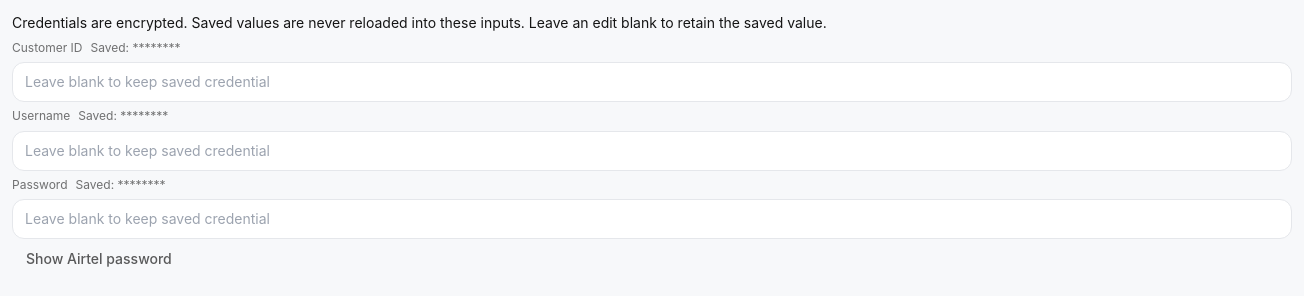
keeps saved values write-only, accepts three new values, and reveals only the typed password
expect the field labelled "Customer ID" is empty: met, box [12,62,1292,102]
expect the field labelled "Username" is empty: met, box [12,131,1292,171]
Type "typed-new-password" into the password field labelled "Password" at (652, 219), box [12,200,1292,239]
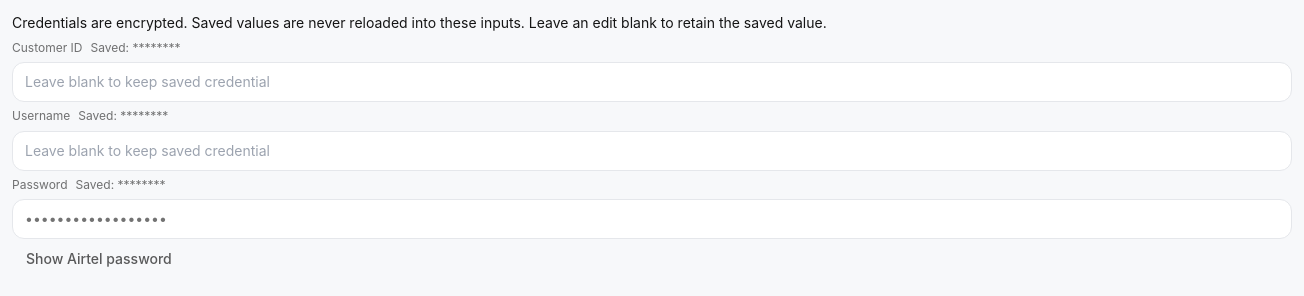
Click the button "Show Airtel password" at (99, 259), box [12,239,186,279]
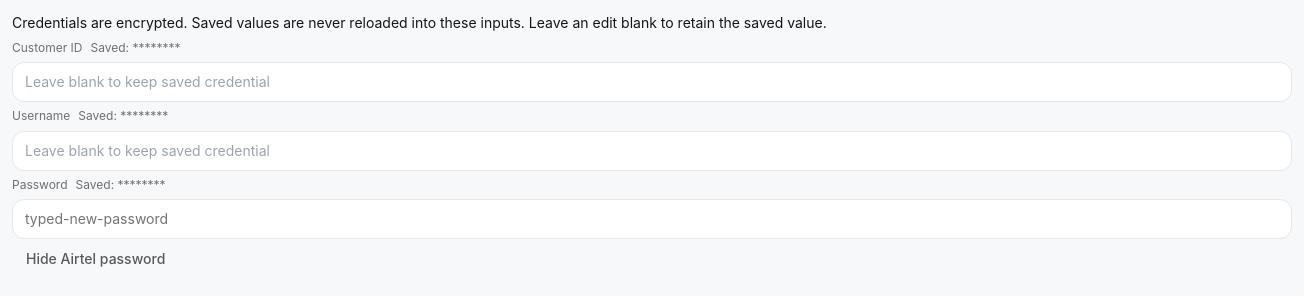
expect the field labelled "Password" shows its text: met, box [12,200,1292,239]
Click the button "Hide Airtel password" at (96, 259), box [12,239,179,279]
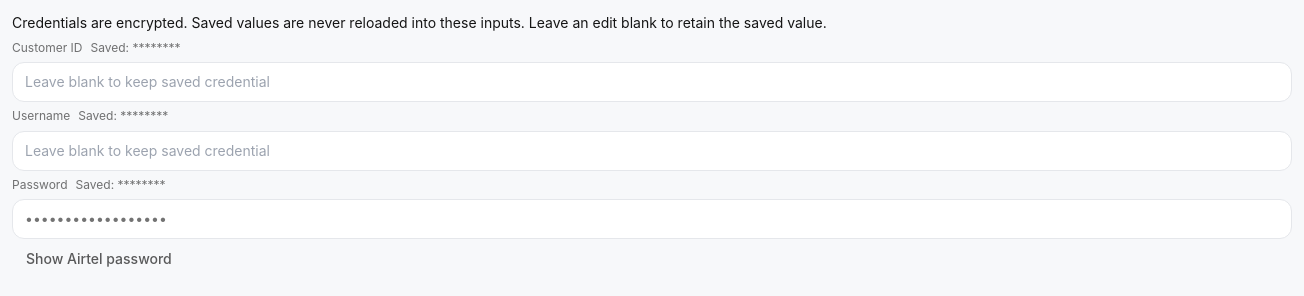
expect the password field labelled "Password" hides its text: met, box [12,200,1292,239]
